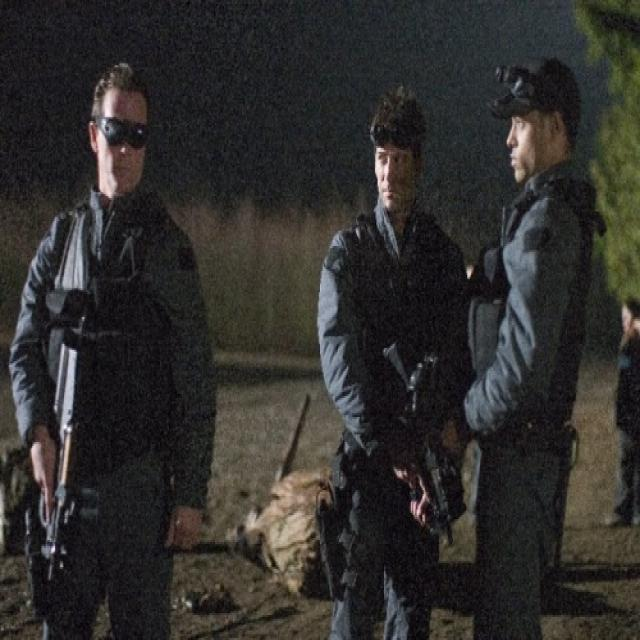rifle: (33, 295, 106, 640), (366, 329, 466, 560)
